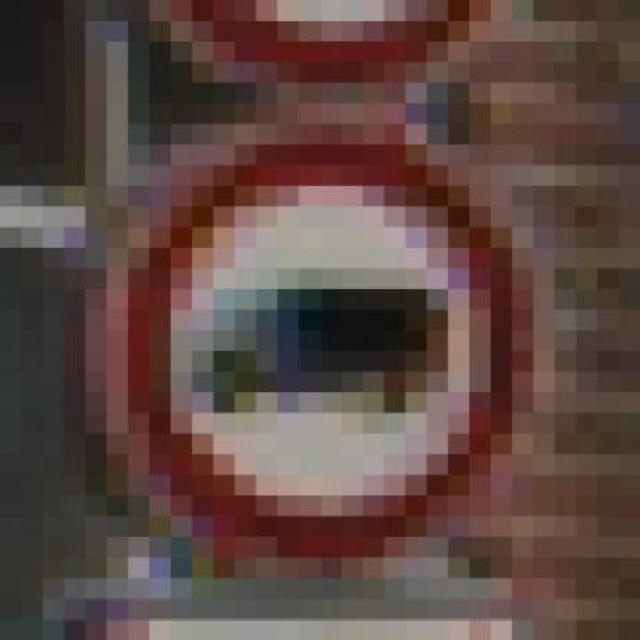Truck traffic is prohibited: (83, 99, 531, 595)
